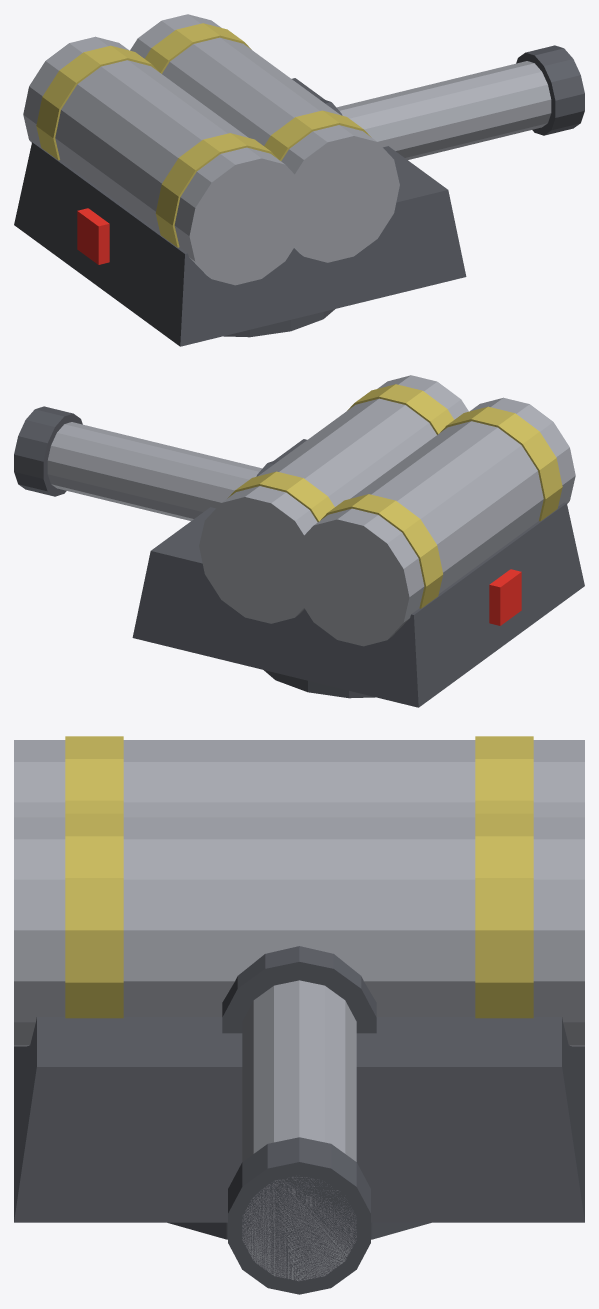
Rendered from vge_compact_autocannon.obj.
3 views of the same model, one above another, from view 1: azimuth 30°, elevation 25°; view 2: azimuth 150°, elevation 25°; view 3: azimuth 270°, elevation 25° (orthographic). The views are drawn at different scales.
Visible parts, largest first — view 1: vge_compact_autocannon_1, vge_compact_autocannon_2, vge_compact_autocannon_5, vge_compact_autocannon_8, vge_compact_autocannon_9, vge_compact_autocannon_3, vge_compact_autocannon_4, vge_compact_autocannon_7, vge_compact_autocannon_6, vge_compact_autocannon_11, vge_compact_autocannon_0; view 2: vge_compact_autocannon_1, vge_compact_autocannon_2, vge_compact_autocannon_5, vge_compact_autocannon_8, vge_compact_autocannon_9, vge_compact_autocannon_4, vge_compact_autocannon_3, vge_compact_autocannon_6, vge_compact_autocannon_7, vge_compact_autocannon_11, vge_compact_autocannon_0; view 3: vge_compact_autocannon_1, vge_compact_autocannon_5, vge_compact_autocannon_2, vge_compact_autocannon_8, vge_compact_autocannon_9, vge_compact_autocannon_6, vge_compact_autocannon_7, vge_compact_autocannon_10, vge_compact_autocannon_3, vge_compact_autocannon_4, vge_compact_autocannon_0.
Part boxes in pixels (left/top/right/bottom): vge_compact_autocannon_1: left=14, top=78, right=466, bottom=346; vge_compact_autocannon_2: left=23, top=36, right=307, bottom=285; vge_compact_autocannon_5: left=130, top=14, right=399, bottom=262; vge_compact_autocannon_8: left=336, top=61, right=551, bottom=159; vge_compact_autocannon_9: left=516, top=45, right=584, bottom=135; vge_compact_autocannon_3: left=155, top=133, right=278, bottom=247; vge_compact_autocannon_4: left=36, top=45, right=158, bottom=160; vge_compact_autocannon_7: left=144, top=23, right=251, bottom=73; vge_compact_autocannon_6: left=264, top=110, right=371, bottom=160; vge_compact_autocannon_11: left=77, top=208, right=109, bottom=264; vge_compact_autocannon_0: left=223, top=309, right=334, bottom=337; vge_compact_autocannon_1: left=132, top=439, right=584, bottom=707; vge_compact_autocannon_2: left=291, top=397, right=575, bottom=646; vge_compact_autocannon_5: left=199, top=375, right=468, bottom=623; vge_compact_autocannon_8: left=47, top=422, right=262, bottom=520; vge_compact_autocannon_9: left=14, top=406, right=82, bottom=496; vge_compact_autocannon_4: left=320, top=494, right=443, bottom=608; vge_compact_autocannon_3: left=440, top=406, right=562, bottom=521; vge_compact_autocannon_6: left=347, top=384, right=454, bottom=434; vge_compact_autocannon_7: left=227, top=471, right=334, bottom=521; vge_compact_autocannon_11: left=489, top=569, right=521, bottom=625; vge_compact_autocannon_0: left=264, top=670, right=375, bottom=698; vge_compact_autocannon_1: left=14, top=1017, right=584, bottom=1222; vge_compact_autocannon_5: left=14, top=817, right=584, bottom=1046; vge_compact_autocannon_2: left=14, top=740, right=584, bottom=817; vge_compact_autocannon_8: left=242, top=980, right=356, bottom=1281; vge_compact_autocannon_9: left=228, top=1137, right=370, bottom=1294; vge_compact_autocannon_6: left=65, top=813, right=123, bottom=1018; vge_compact_autocannon_7: left=475, top=813, right=533, bottom=1018; vge_compact_autocannon_10: left=222, top=946, right=376, bottom=1033; vge_compact_autocannon_3: left=65, top=736, right=123, bottom=813; vge_compact_autocannon_4: left=475, top=736, right=533, bottom=813; vge_compact_autocannon_0: left=167, top=1222, right=431, bottom=1239.
Bounding box in the file's own units: 1.29 × 0.5409 × 0.78.
